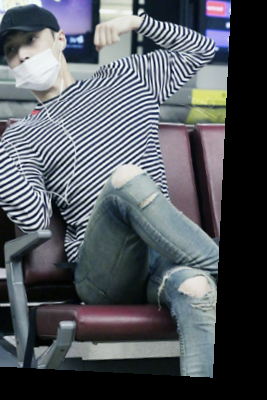mask_weared_incorrect: (1, 4, 74, 101)
